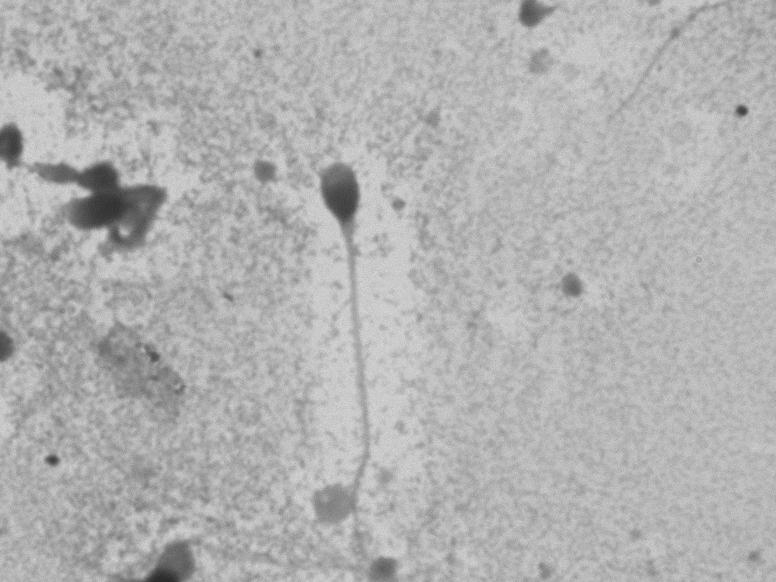Normal: (302, 144, 420, 568)
